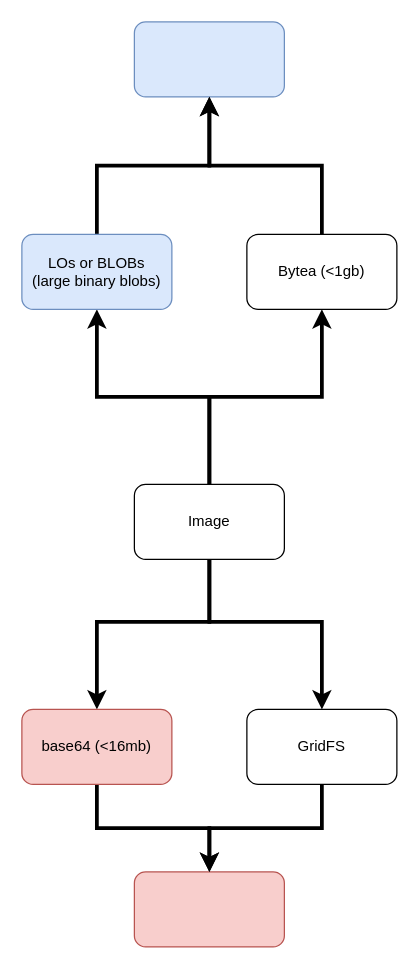
This 419x969 diagram has some shape labels left out. Here are the shapes that lost their labels. From the top down, the box of each, then its label:
(133, 21, 284, 97): Postgres
(133, 871, 284, 947): MongoDB
